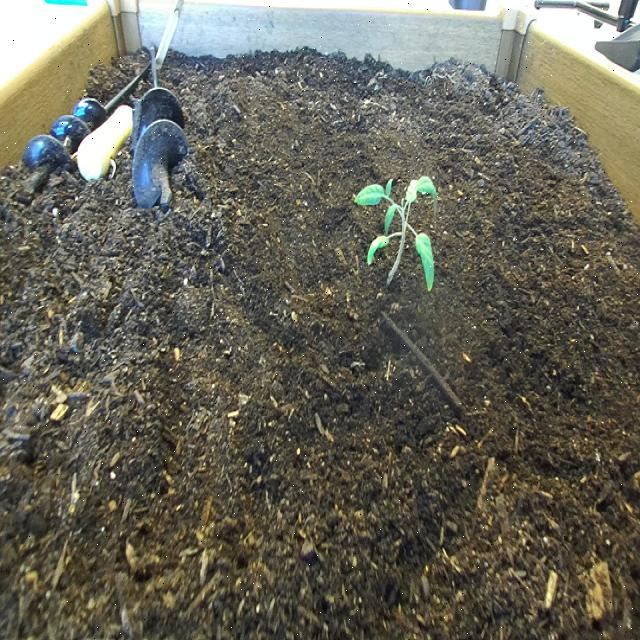Healthy: (352, 170, 442, 300)
